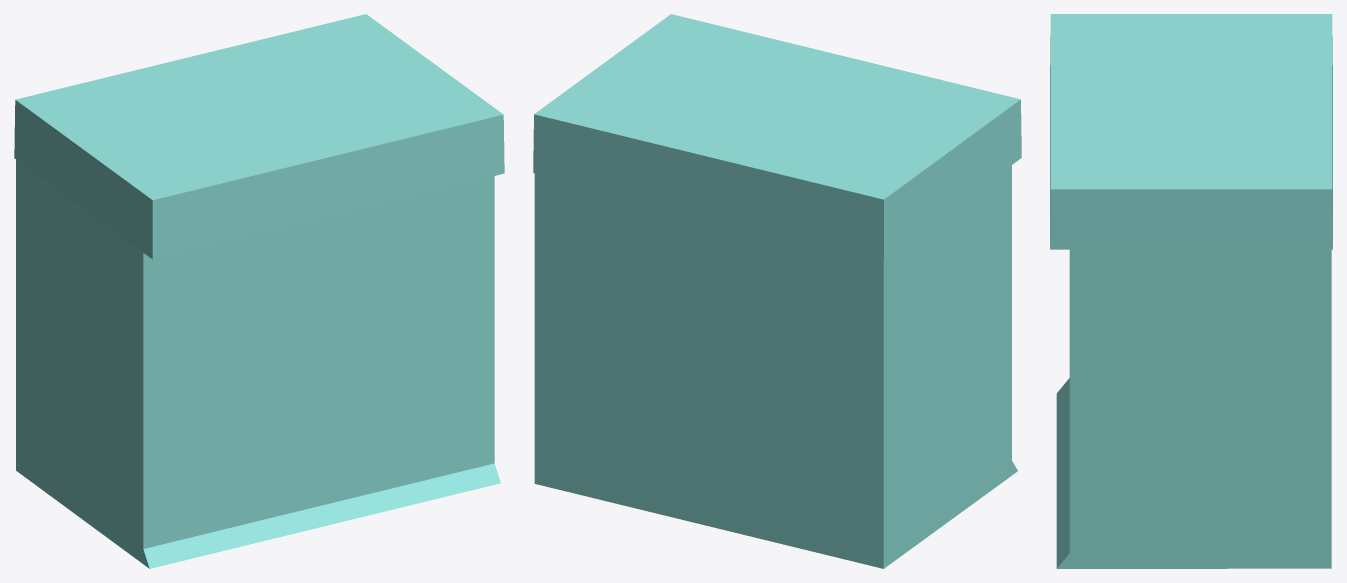
File: DinerCooking2_Collision.fbx
The picture shows the model from 3 angles, left to right: view 1: azimuth 30°, elevation 25°; view 2: azimuth 150°, elevation 25°; view 3: azimuth 270°, elevation 25°; orthographic projection. The views are drawn at different scales.
Visible parts, largest first — view 1: DinerCooking2_Collision; view 2: DinerCooking2_Collision; view 3: DinerCooking2_Collision.
Boxes of the visible parts, <box> form: DinerCooking2_Collision: <box>14,14,504,568</box>; DinerCooking2_Collision: <box>533,14,1021,568</box>; DinerCooking2_Collision: <box>1050,14,1332,568</box>.
Size of the model in its own units: 1.16 by 1.16 by 0.7858.
